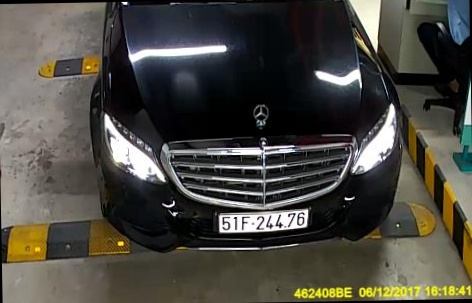plate: (211, 198, 312, 239)
